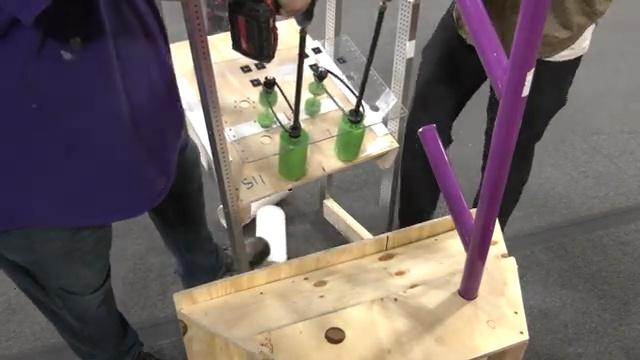CORAL: (256, 206, 288, 264)
